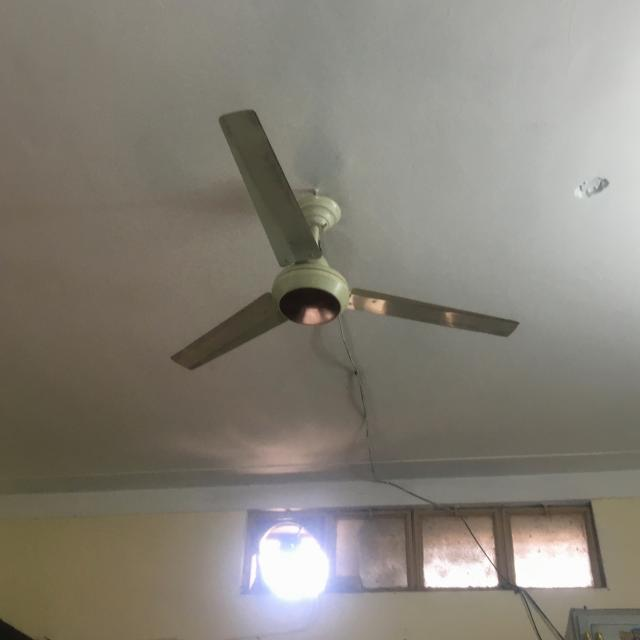off: (154, 96, 527, 376)
